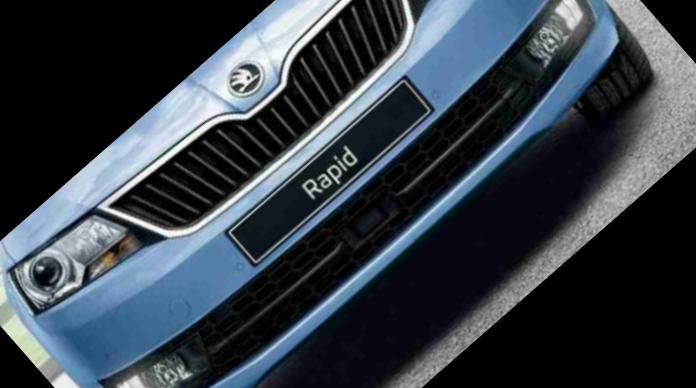plate: (209, 54, 453, 279)
